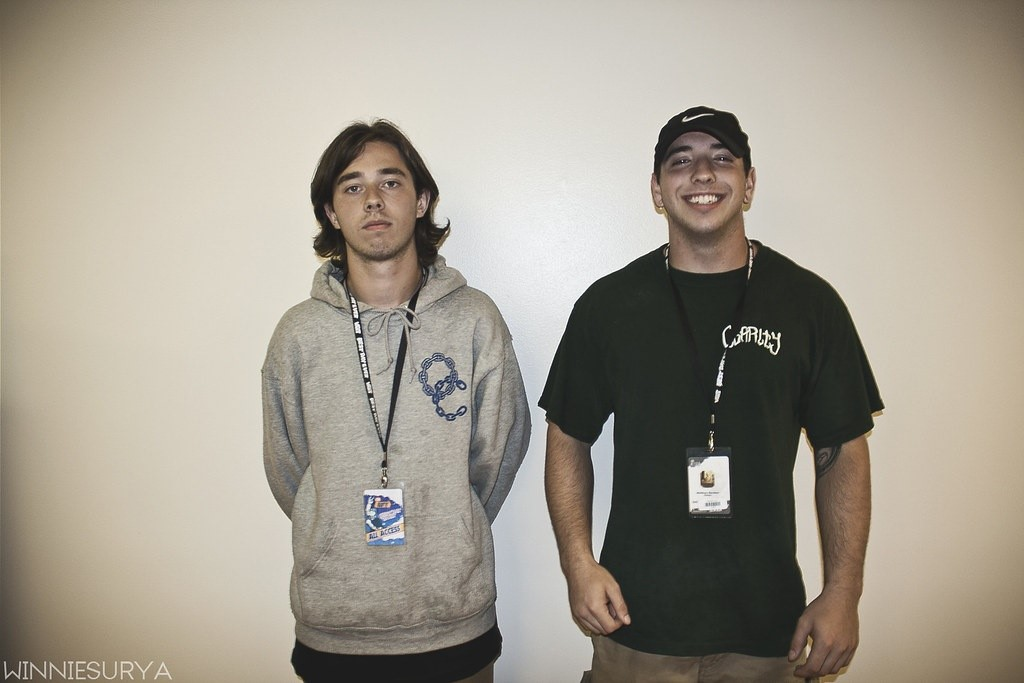face_no_mask: (311, 121, 437, 260), (652, 114, 756, 241)
